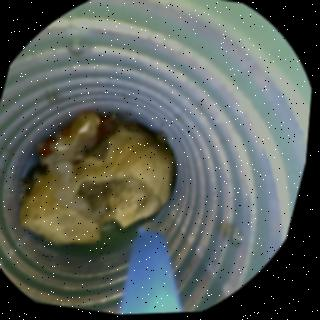fiber: (124, 228, 186, 316)
stone: (23, 116, 173, 250)
